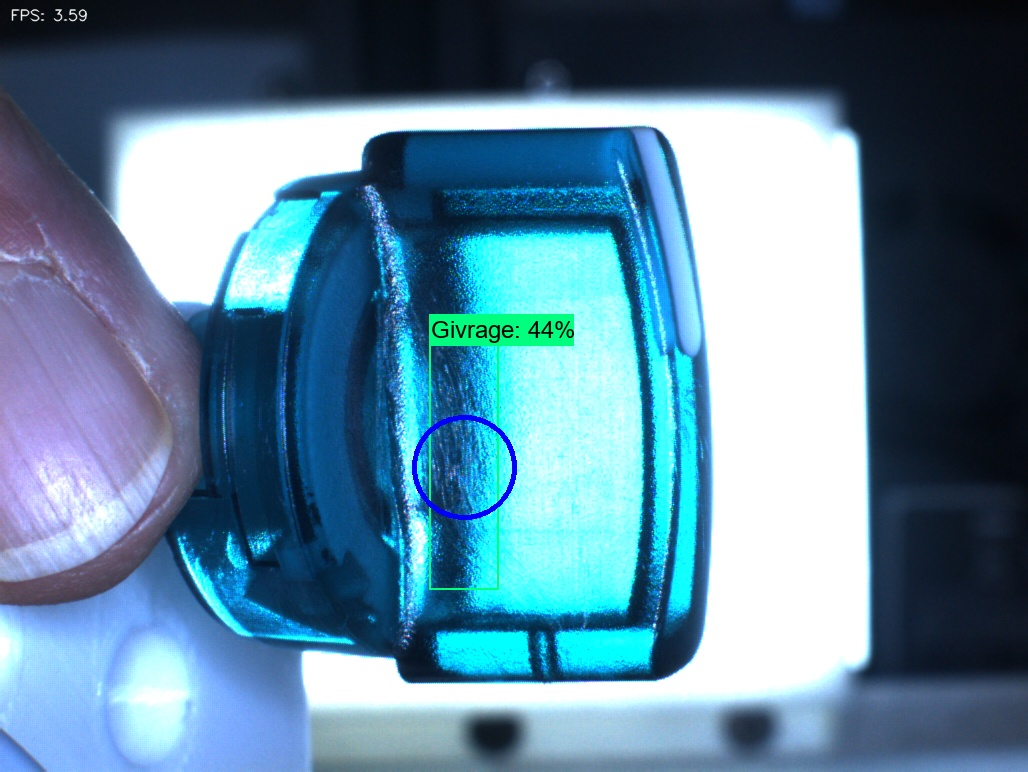Bulle: (495, 595, 600, 715)
